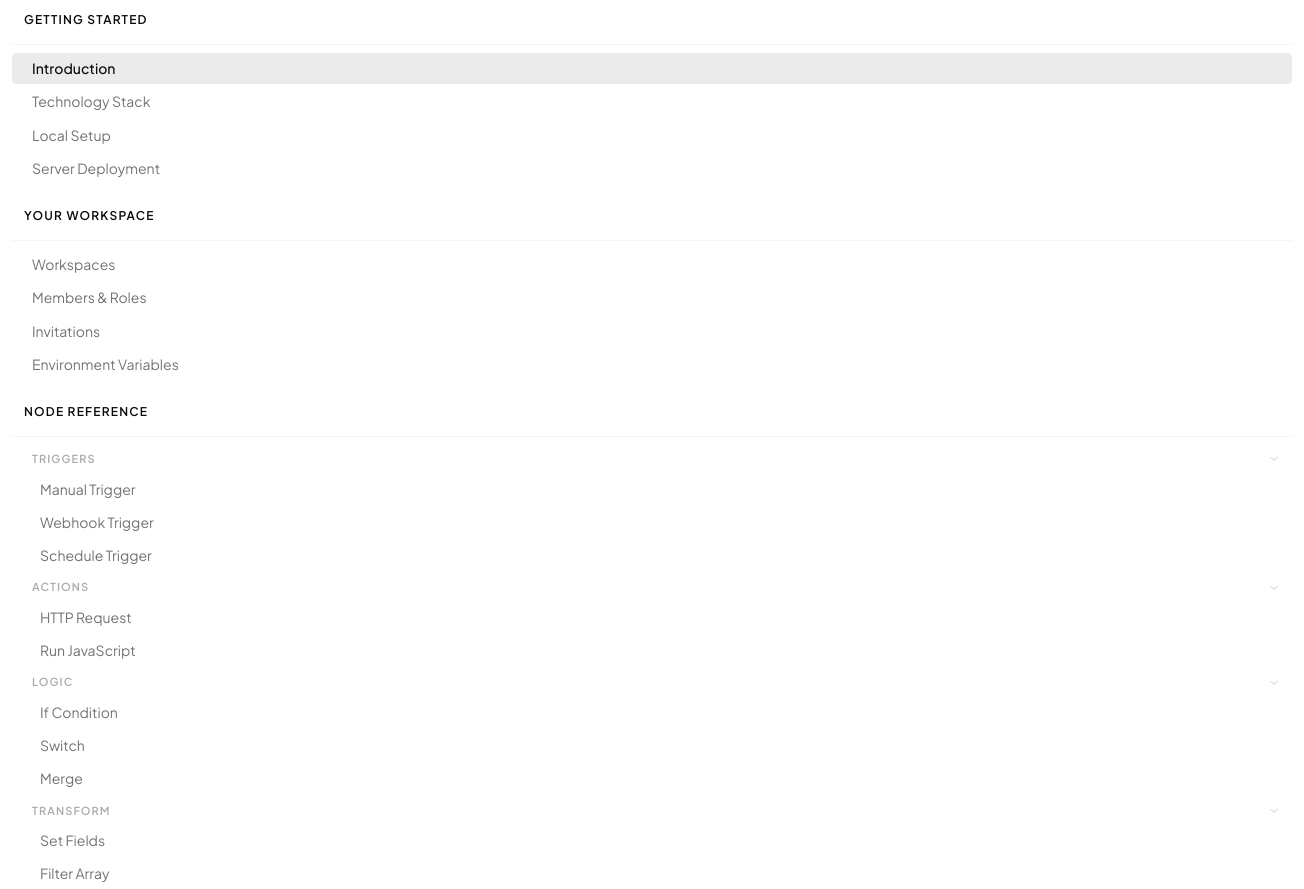
Scenario: DocsSidebar › re-expands a subgroup on a second click of its heading
The width and height of the screenshot is (1304, 889).
Click the button "Triggers": (64, 458) [12,445,1292,474]
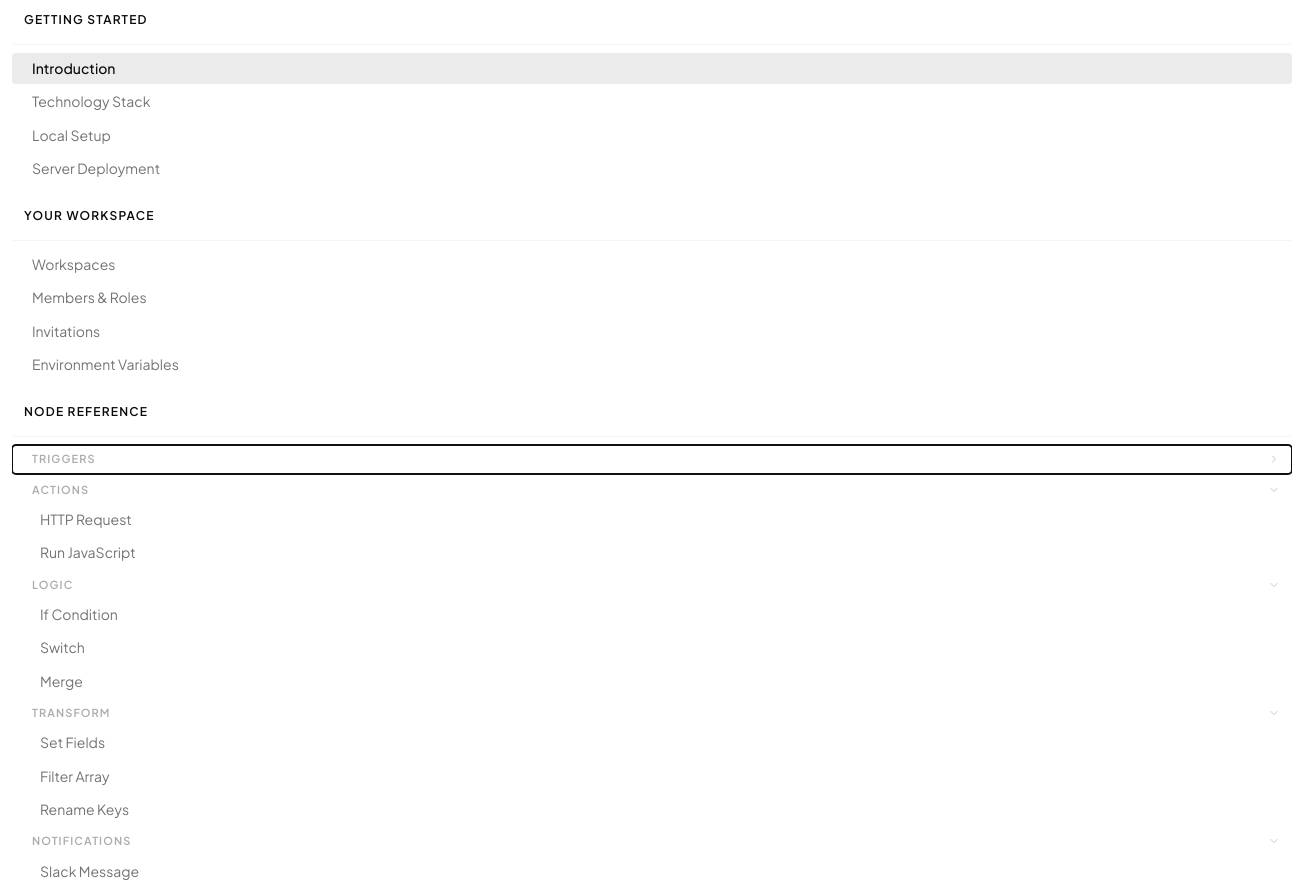
Click the button "Triggers": (64, 458) [12,445,1292,474]
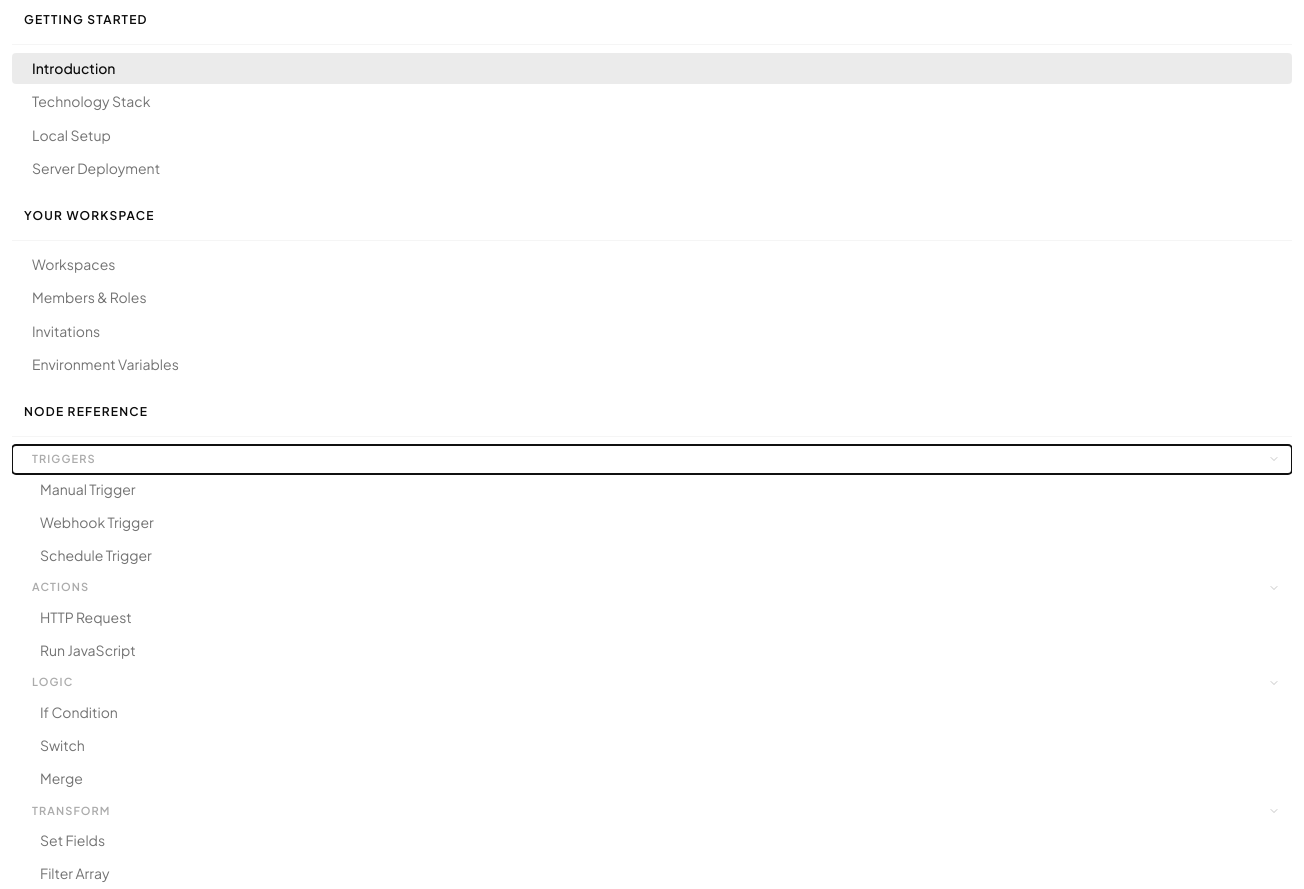
expect the button "Manual Trigger" is shown: met, box [20,474,1292,505]
